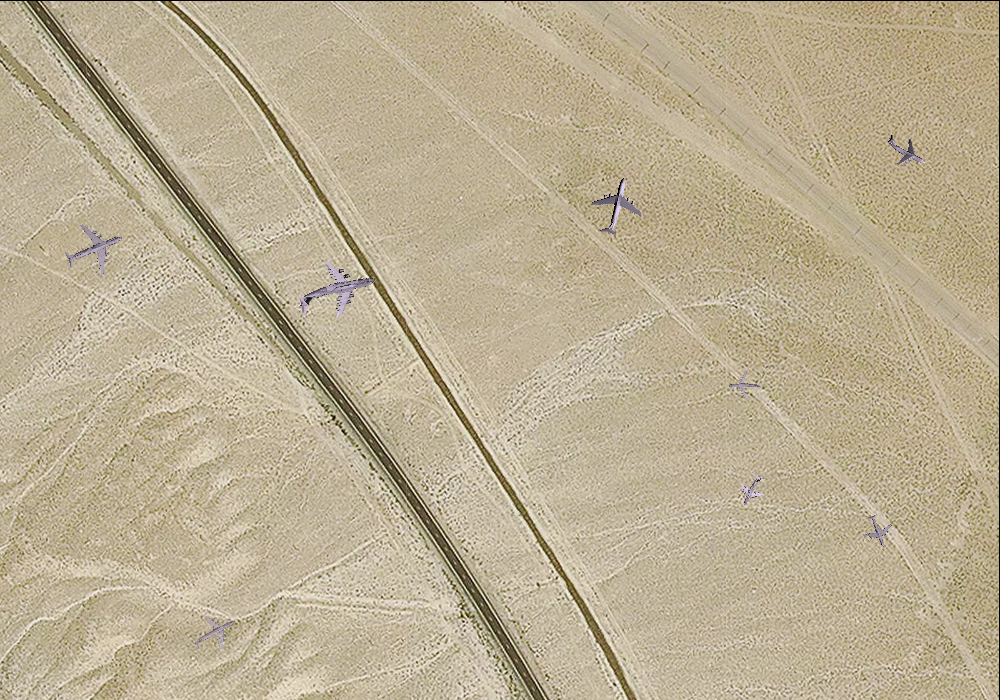plane: (290, 249, 383, 335), (55, 211, 132, 286), (582, 171, 650, 240), (183, 603, 245, 663), (879, 124, 934, 176), (732, 469, 773, 512), (857, 510, 898, 552), (728, 369, 762, 401)
